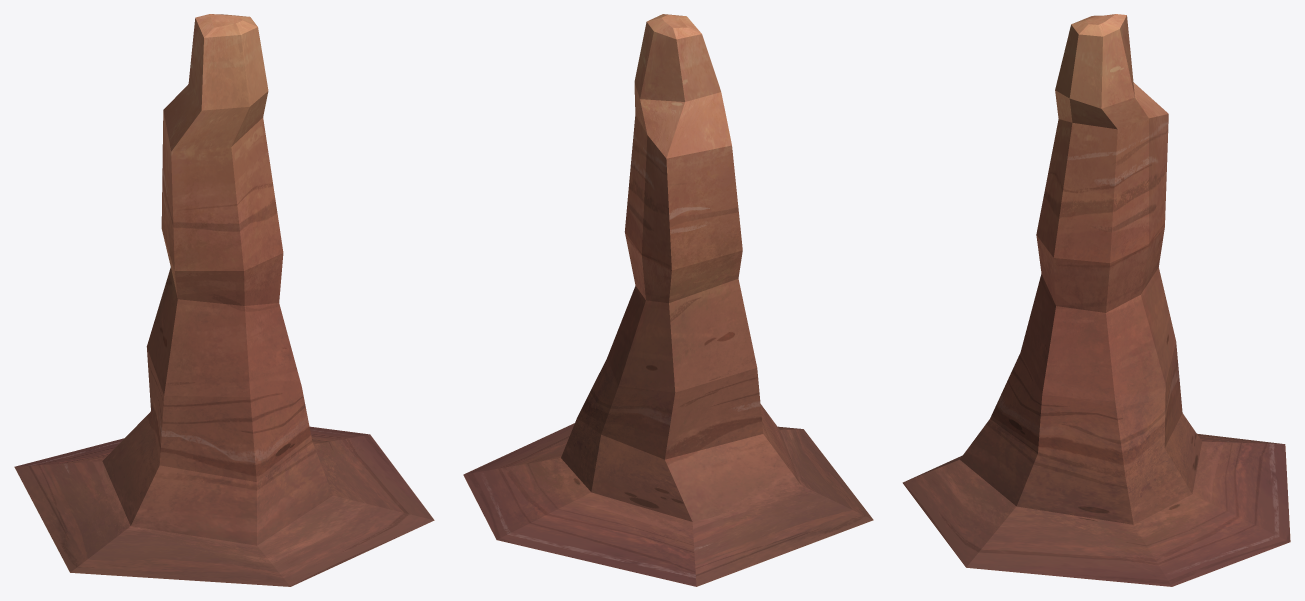
File: spire_2_001.fbx
3 renders of one model, left to right at view 1: azimuth 30°, elevation 25°; view 2: azimuth 150°, elevation 25°; view 3: azimuth 270°, elevation 25°, orthographic. The views are drawn at different scales.
Visible parts, largest first — view 1: spire 2.001; view 2: spire 2.001; view 3: spire 2.001.
Part boxes in pixels (x1,y1,x2,y2): spire 2.001: (14,14,434,586); spire 2.001: (463,14,873,586); spire 2.001: (902,14,1290,586).
Bounding box in the file's own units: 277 × 359 × 260.
